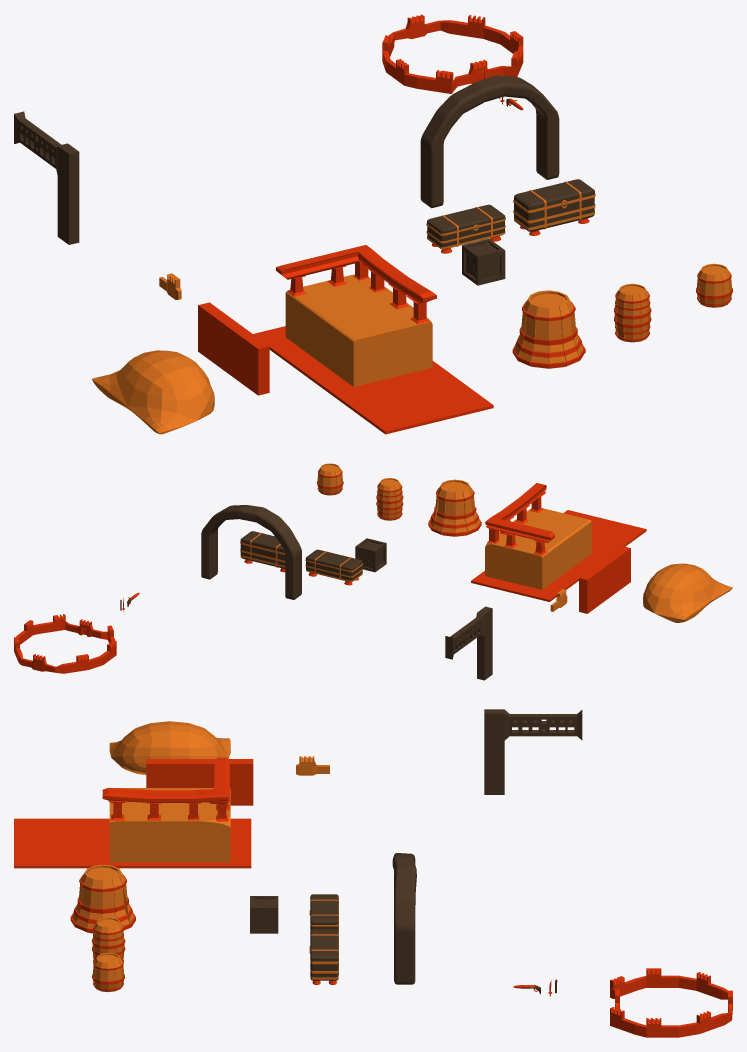
File: barood ready for game.fbx
3 views of the same model, one above another, from view 1: azimuth 30°, elevation 25°; view 2: azimuth 150°, elevation 25°; view 3: azimuth 270°, elevation 25° (orthographic). The views are drawn at different scales.
Visible parts, largest first — view 1: Cube, Plane, large, gate, hub walls, Cylinder.011, wall, pillar, house fence 2, Cylinder.004, crate, medium chest body (+4 smaller); view 2: Cube, large, gate, Plane, hub walls, Cylinder.011, wall, pillar, house fence 2, Cylinder.004, crate, small chest head (+5 smaller); view 3: Cube, Plane, large, hub walls, pillar, wall, Cylinder.011, gate, house fence 2, Cylinder.004, Cylinder, crate (+3 smaller).
Boxes of the visible parts, x1,y1,x2,y2 form: Cube: (285,274,432,386); Plane: (253,326,493,434); large: (92,350,214,434); gate: (420,75,559,208); hub walls: (382,14,523,93); Cylinder.011: (512,290,585,368); wall: (198,302,269,395); pillar: (14,111,79,244); house fence 2: (276,245,436,302); Cylinder.004: (614,283,651,342); crate: (462,238,505,285); medium chest body: (513,197,595,235); Cube: (485,508,591,589); large: (643,563,732,622); gate: (201,505,301,599); Plane: (471,510,646,601); hub walls: (14,614,116,673); Cylinder.011: (428,479,481,536); wall: (579,546,630,613); pillar: (445,606,492,680); house fence 2: (485,483,554,540); Cylinder.004: (376,478,403,520); crate: (355,538,386,572); small chest head: (305,549,363,572); Cube: (109,788,230,862); Plane: (14,818,251,868); large: (109,721,230,774); hub walls: (610,968,732,1037); pillar: (484,709,582,794); wall: (146,759,253,805); Cylinder.011: (70,864,135,933); gate: (392,853,416,984); house fence 2: (102,758,228,802); Cylinder.004: (91,917,125,962); Cylinder: (92,953,124,991); crate: (250,896,278,933).
Size of the model in its own units: 4846 by 882 by 5089.
